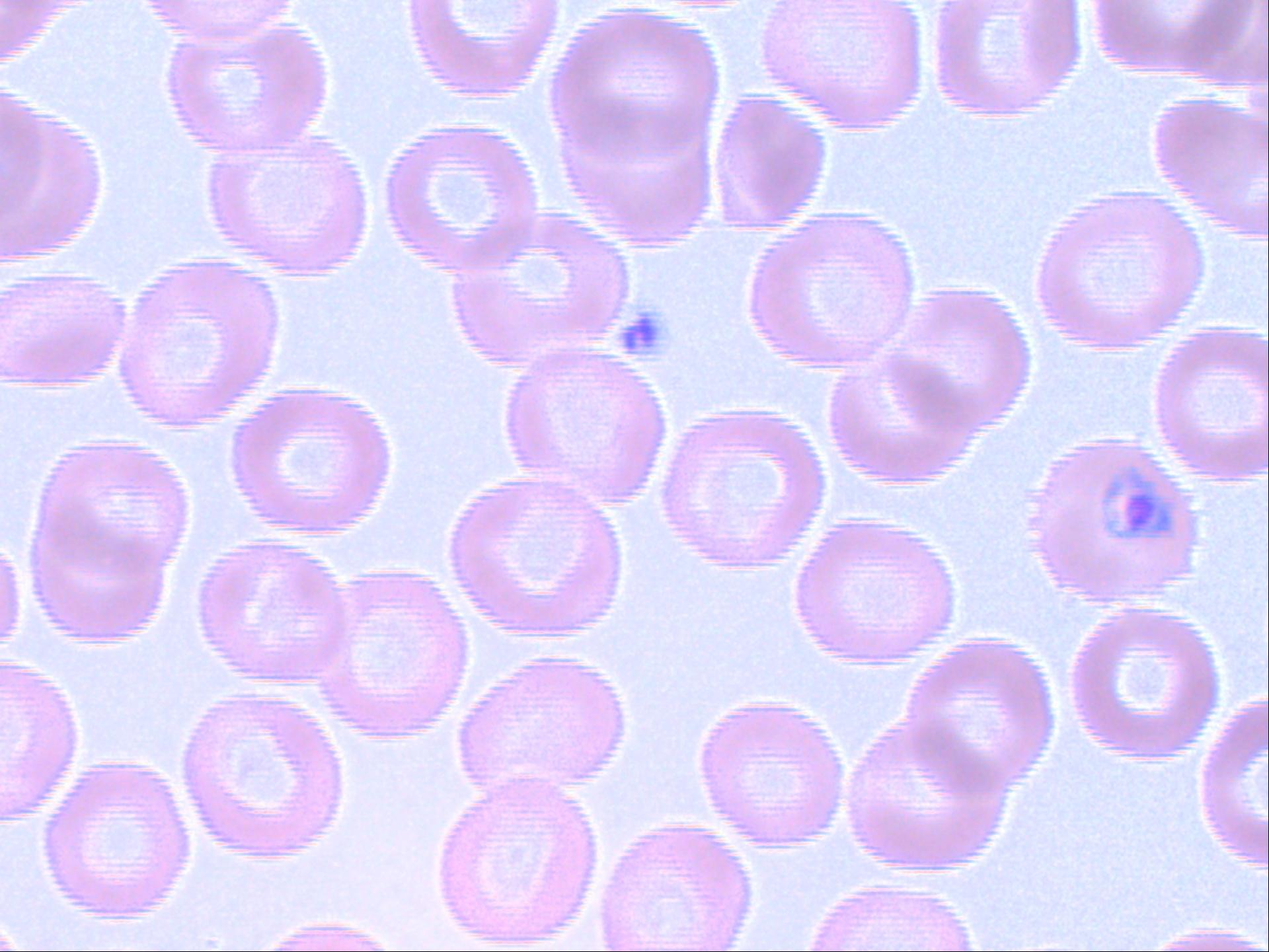Infected: (1034, 439, 1197, 600)
Uninfected: (551, 10, 723, 240), (833, 291, 1031, 482), (34, 439, 189, 639), (451, 216, 632, 366), (747, 210, 921, 366), (453, 476, 623, 634), (894, 640, 1054, 807), (183, 695, 343, 861), (440, 780, 598, 942), (124, 260, 279, 425), (847, 717, 1016, 867), (315, 573, 469, 737), (1039, 192, 1200, 348), (229, 391, 391, 541), (502, 348, 661, 500), (662, 412, 820, 564), (457, 660, 620, 797), (47, 762, 191, 916), (1071, 608, 1218, 758), (389, 124, 541, 268), (798, 521, 952, 662), (209, 140, 369, 275), (201, 540, 349, 684), (167, 22, 328, 154), (700, 703, 842, 848), (763, 3, 920, 130), (599, 825, 742, 949), (3, 92, 103, 265), (1157, 326, 1266, 471), (1155, 98, 1264, 243), (939, 1, 1077, 115), (5, 272, 127, 393), (716, 98, 829, 228), (412, 2, 562, 98), (808, 887, 972, 946)
